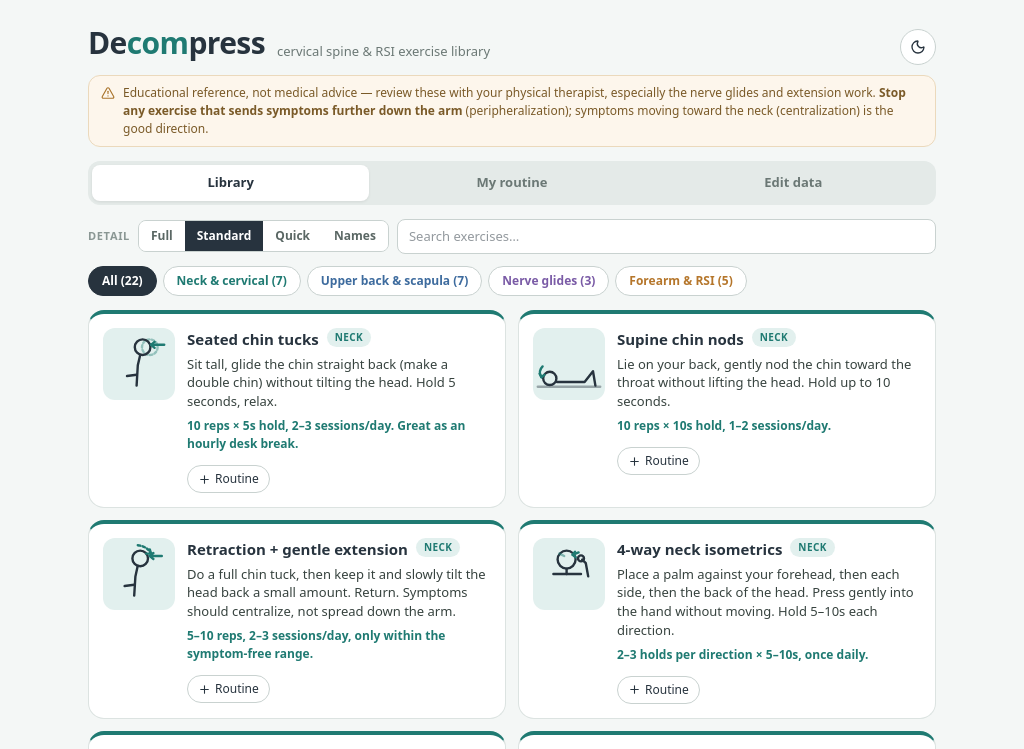
Test: DecompressApp › filters the library by category
Click the button "Neck & cervical (7)": (232, 281) [163, 266, 301, 296]
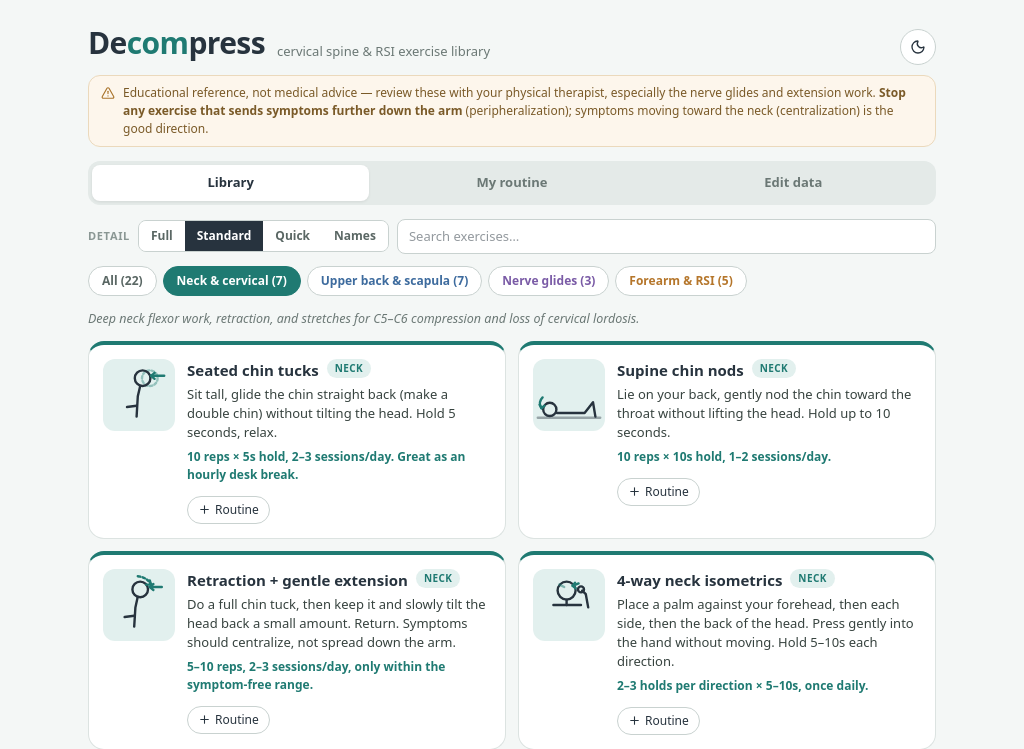
Check: the text "Seated chin tucks" is shown, box [187, 359, 319, 381]
Check: the text "Deep neck flexor work" is shown, box [88, 310, 639, 327]
